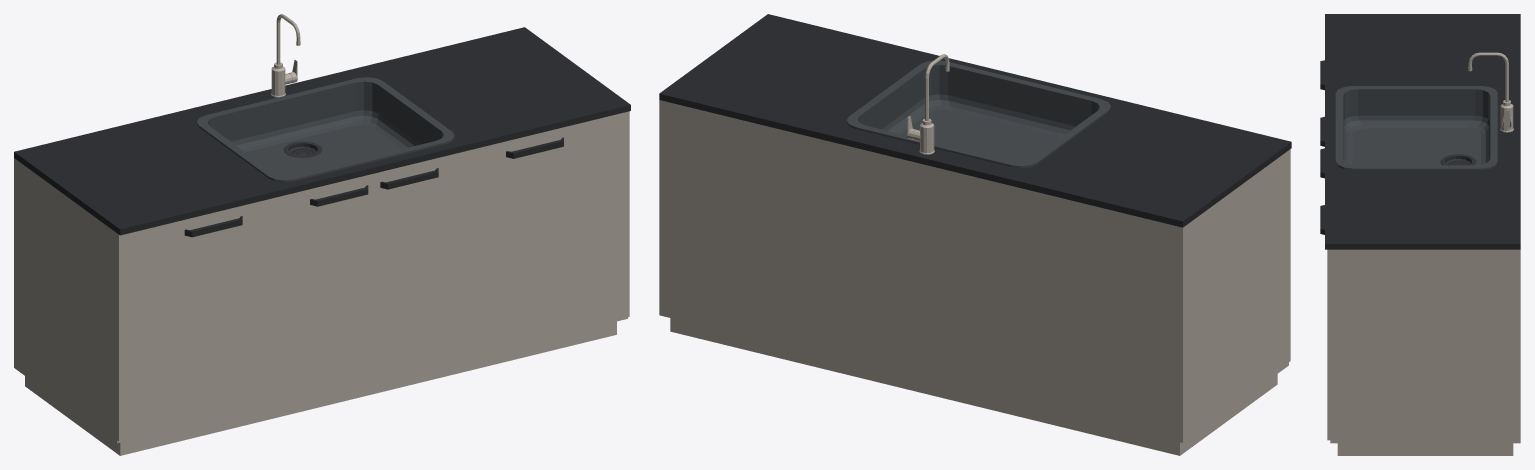
Rendered from SM_Table_04.gltf.
3 renders of one model, left to right at view 1: azimuth 30°, elevation 25°; view 2: azimuth 150°, elevation 25°; view 3: azimuth 270°, elevation 25°, orthographic. The views are drawn at different scales.
Visible parts, largest first — view 1: SM_Table_04, SM_Door_From_A_table_With_A_Sink_01, SM_Door_From_A_table_With_A_Sink_04, SM_Door_From_A_table_With_A_Sink_02, SM_Door_From_A_table_With_A_Sink_03; view 2: SM_Table_04; view 3: SM_Table_04, SM_Door_From_A_table_With_A_Sink_04.
Boxes of the visible parts, left/top/right/bottom form: SM_Table_04: left=14, top=14, right=630, bottom=455; SM_Door_From_A_table_With_A_Sink_01: left=117, top=204, right=248, bottom=441; SM_Door_From_A_table_With_A_Sink_04: left=500, top=111, right=629, bottom=348; SM_Door_From_A_table_With_A_Sink_02: left=248, top=173, right=374, bottom=409; SM_Door_From_A_table_With_A_Sink_03: left=374, top=143, right=499, bottom=378; SM_Table_04: left=659, top=14, right=1291, bottom=455; SM_Table_04: left=1325, top=14, right=1520, bottom=455; SM_Door_From_A_table_With_A_Sink_04: left=1320, top=205, right=1330, bottom=440.
Bounding box in the file's own units: 2 × 1.18 × 0.7374.
